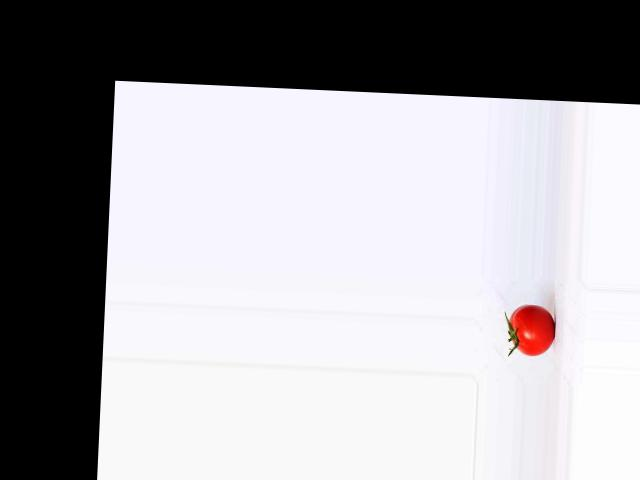tomato: (508, 302, 556, 356)
